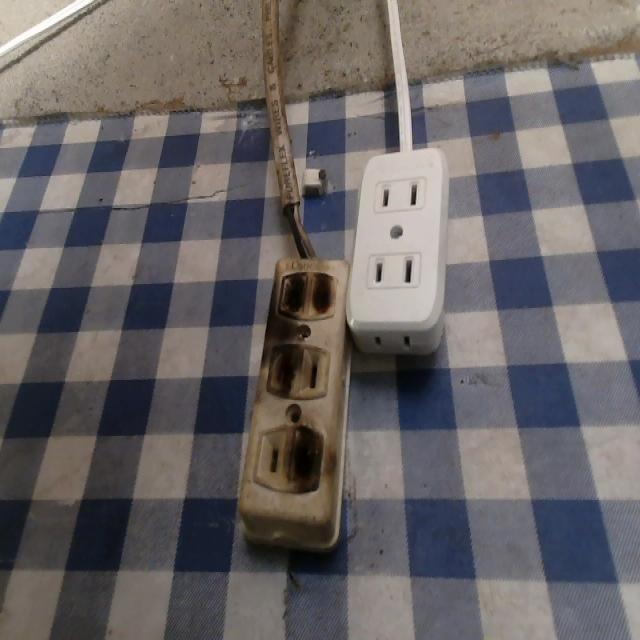-: (271, 266, 342, 322), (286, 418, 329, 506), (261, 332, 306, 404)
